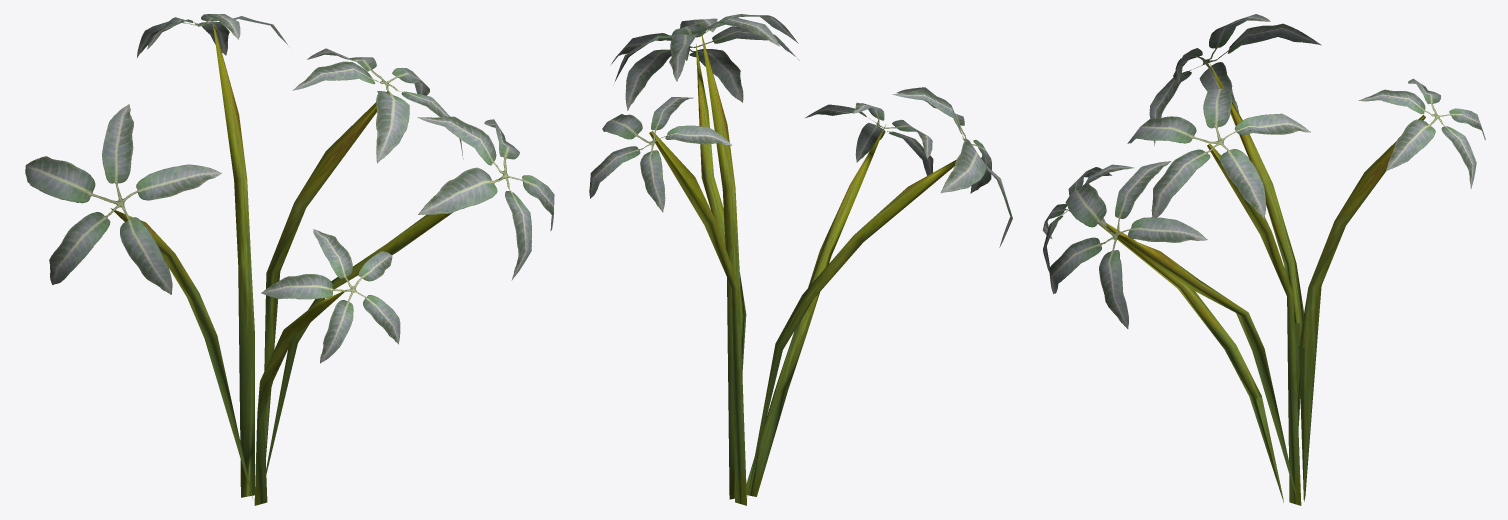
Rendered from plant l.dae.
3 views of the same model, side by side, from view 1: azimuth 30°, elevation 25°; view 2: azimuth 150°, elevation 25°; view 3: azimuth 270°, elevation 25° (orthographic). The views are drawn at different scales.
Parts seen in each view (by area): view 1: plant_l_Form25, plant_l_plant_l; view 2: plant_l_plant_l, plant_l_Form25; view 3: plant_l_Form25, plant_l_plant_l.
Part boxes in pixels (x1,y1,x2,y2): plant_l_Form25: [25, 14, 554, 363]; plant_l_plant_l: [110, 23, 502, 505]; plant_l_plant_l: [649, 35, 956, 505]; plant_l_Form25: [589, 14, 1012, 247]; plant_l_Form25: [1042, 14, 1485, 328]; plant_l_plant_l: [1098, 63, 1425, 505].
Bounding box in the file's own units: 46.53 × 44.12 × 42.19.
Materials: 1 (1 with a texture image).
